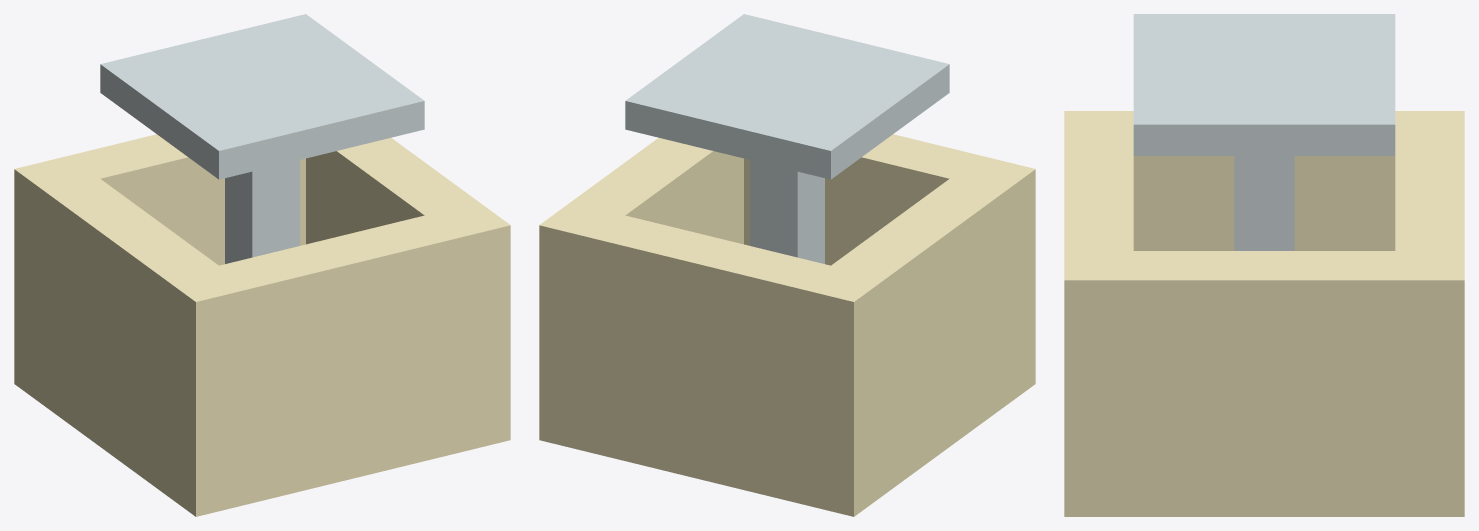
The model's file is kn-lamp-square-ceiling.glb.
The picture shows the model from 3 angles, left to right: view 1: azimuth 30°, elevation 25°; view 2: azimuth 150°, elevation 25°; view 3: azimuth 270°, elevation 25°; orthographic projection. The views are drawn at different scales.
Parts seen in each view (by area): view 1: lampSquareCeiling(Clone); view 2: lampSquareCeiling(Clone); view 3: lampSquareCeiling(Clone).
Boxes of the visible parts, bbox=[...] form: lampSquareCeiling(Clone): bbox=[14, 14, 510, 516]; lampSquareCeiling(Clone): bbox=[539, 14, 1035, 516]; lampSquareCeiling(Clone): bbox=[1064, 14, 1464, 516].
Size of the model in its own units: 1 by 1 by 1.
